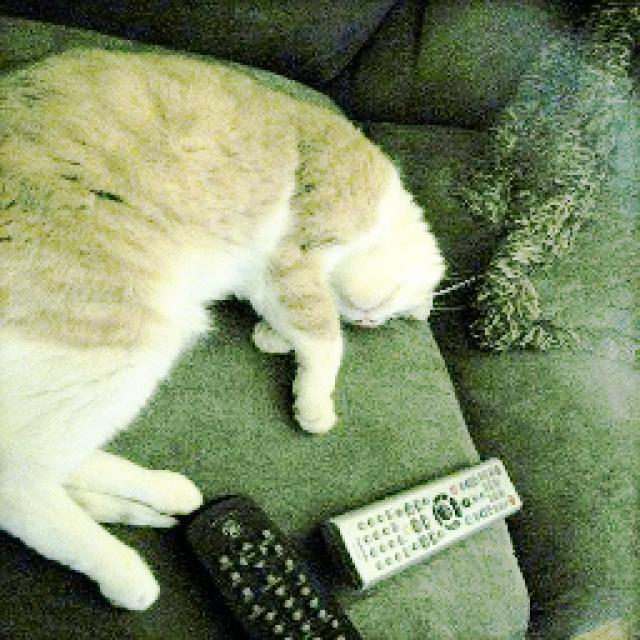cat: (0, 41, 451, 624)
